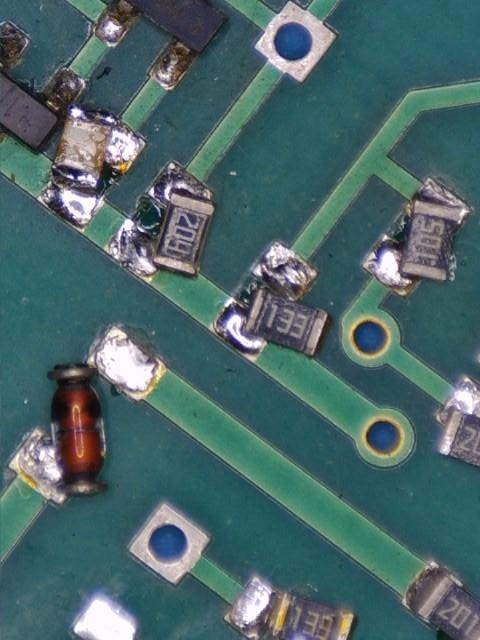pcb_defect: (6, 323, 169, 509), (207, 239, 330, 365), (38, 103, 149, 233), (103, 159, 217, 285), (360, 174, 473, 300), (221, 572, 356, 640), (434, 374, 480, 468)
